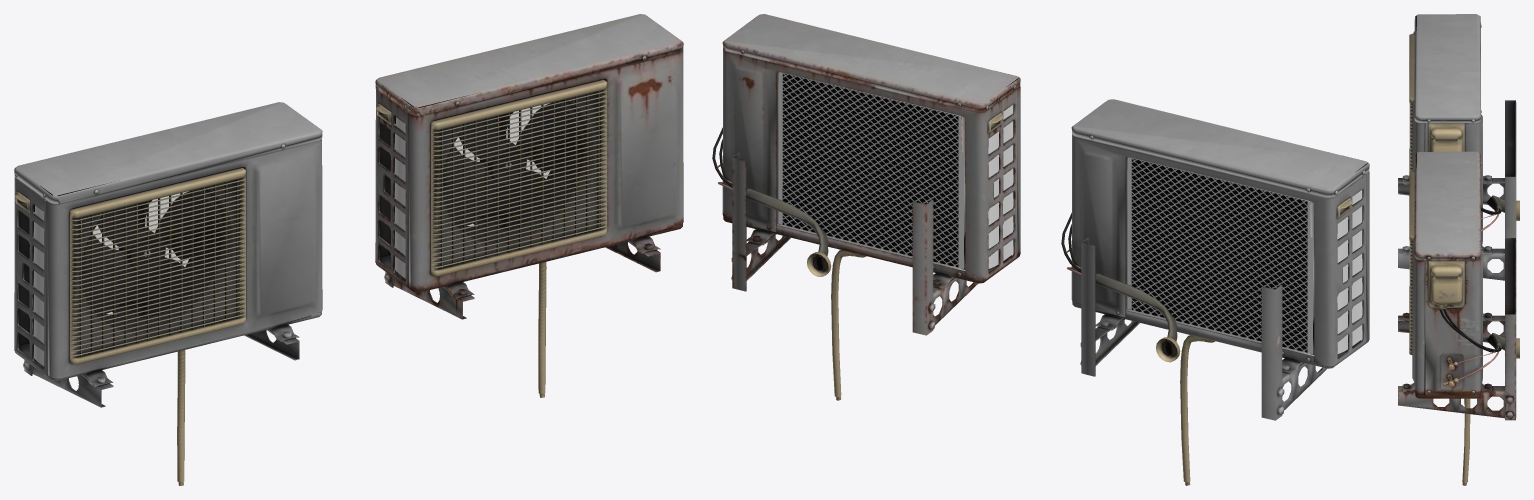
The model's file is aircon_unit.glb.
3 renders of one model, left to right at view 1: azimuth 30°, elevation 25°; view 2: azimuth 150°, elevation 25°; view 3: azimuth 270°, elevation 25°, orthographic. The views are drawn at different scales.
Parts seen in each view (by area): view 1: exterior_aircon_unit, exterior_aircon_unit_rusted; view 2: exterior_aircon_unit, exterior_aircon_unit_rusted; view 3: exterior_aircon_unit_rusted, exterior_aircon_unit.
Part boxes in pixels (x1=…): exterior_aircon_unit: x1=14, y1=102, x2=322, y2=485; exterior_aircon_unit_rusted: x1=375, y1=14, x2=683, y2=397; exterior_aircon_unit: x1=1061, y1=99, x2=1369, y2=485; exterior_aircon_unit_rusted: x1=712, y1=14, x2=1020, y2=400; exterior_aircon_unit_rusted: x1=1398, y1=151, x2=1519, y2=485; exterior_aircon_unit: x1=1398, y1=14, x2=1519, y2=280.
Size of the model in its own units: 1.8 by 0.9279 by 0.3742.
4 materials, 4 textured.
